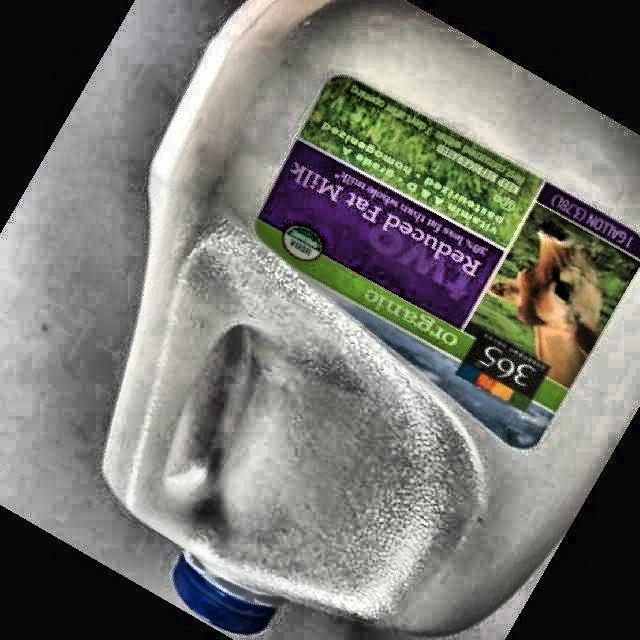plastic: (104, 0, 640, 632)
